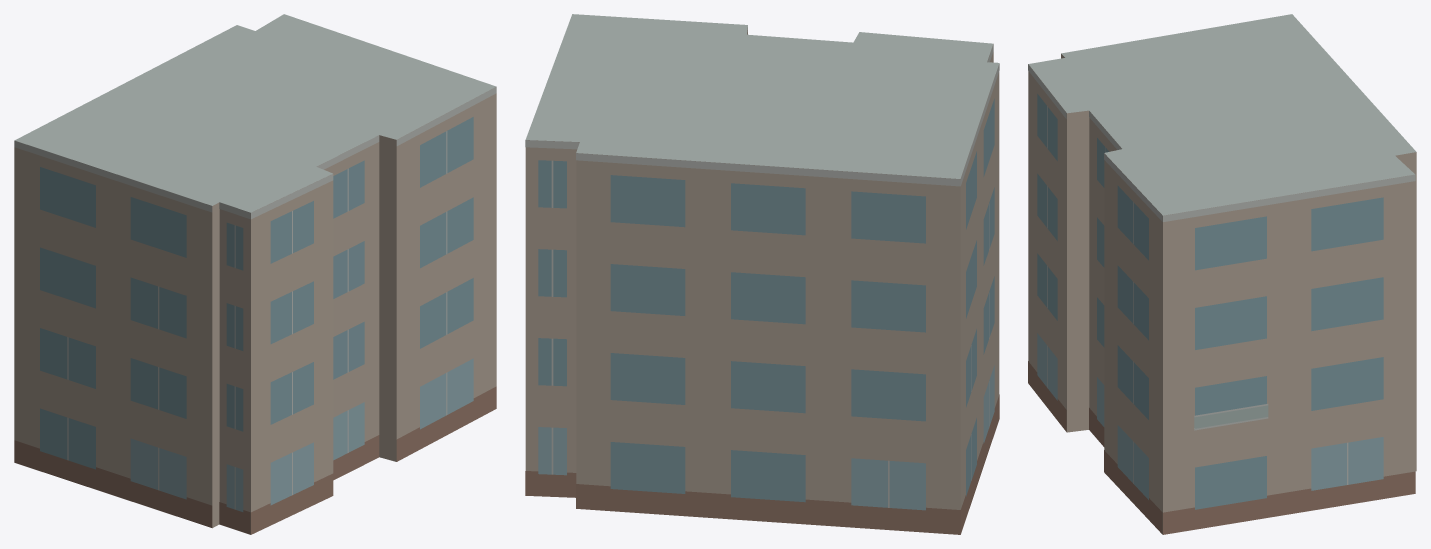
Rendered from survey-upis-32853019.glb.
3 renders of one model, left to right at view 1: azimuth 30°, elevation 25°; view 2: azimuth 150°, elevation 25°; view 3: azimuth 270°, elevation 25°, orthographic. The views are drawn at different scales.
Parts seen in each view (by area): view 1: survey-upis-32853019.tmp; view 2: survey-upis-32853019.tmp; view 3: survey-upis-32853019.tmp.
Boxes of the visible parts, x1,y1,x2,y2 form: survey-upis-32853019.tmp: [14, 14, 496, 534]; survey-upis-32853019.tmp: [525, 14, 999, 534]; survey-upis-32853019.tmp: [1028, 14, 1416, 534].
Size of the model in its own units: 15.95 by 11.77 by 12.99.
